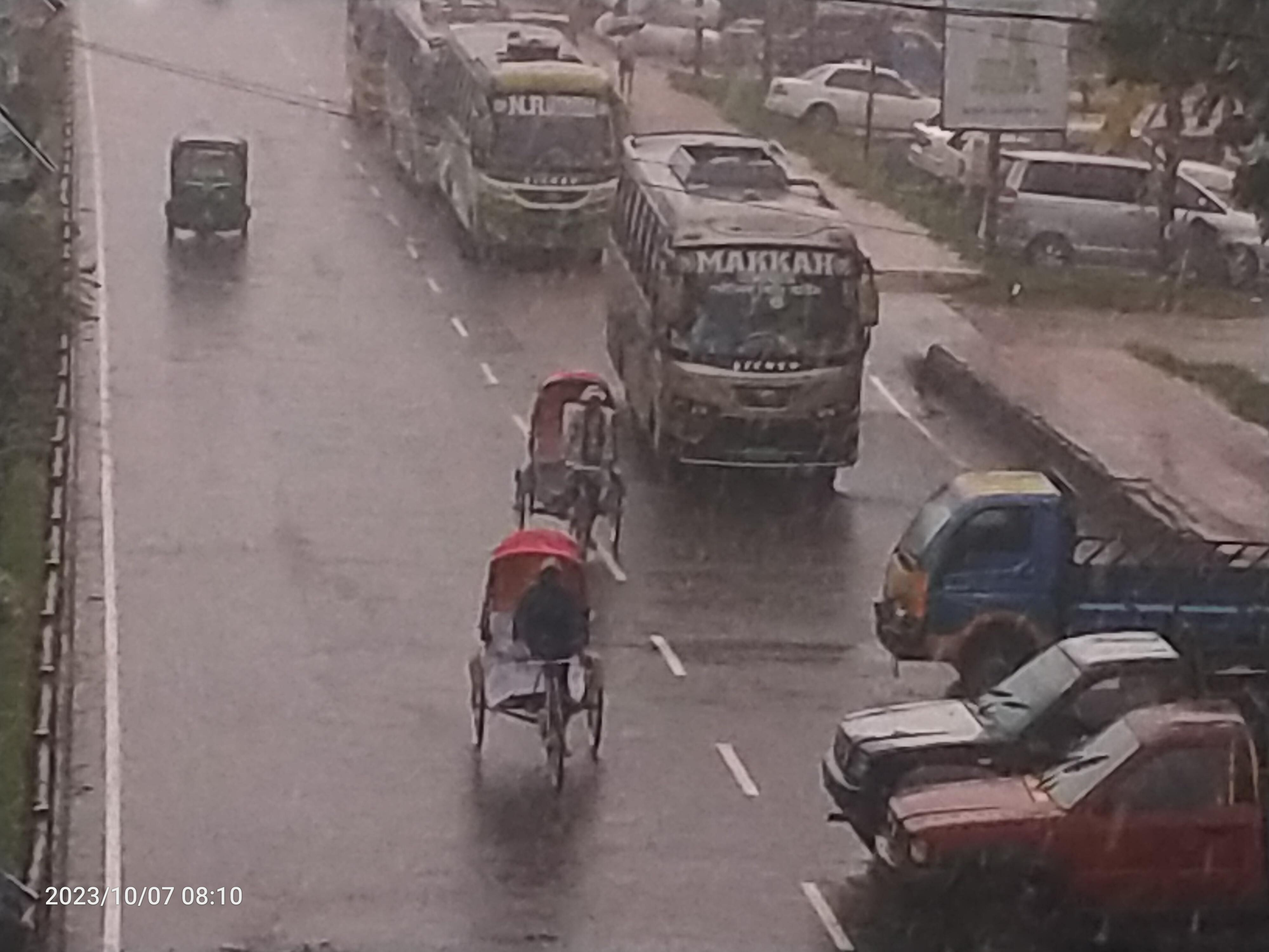Bus: (589, 127, 917, 538), (422, 13, 651, 294), (339, 0, 453, 187)
Car: (455, 512, 636, 814), (970, 134, 1269, 301), (494, 349, 647, 592), (718, 37, 976, 152), (896, 107, 1003, 184)
Truck: (832, 444, 1269, 696), (867, 693, 1269, 952), (804, 622, 1269, 791)
